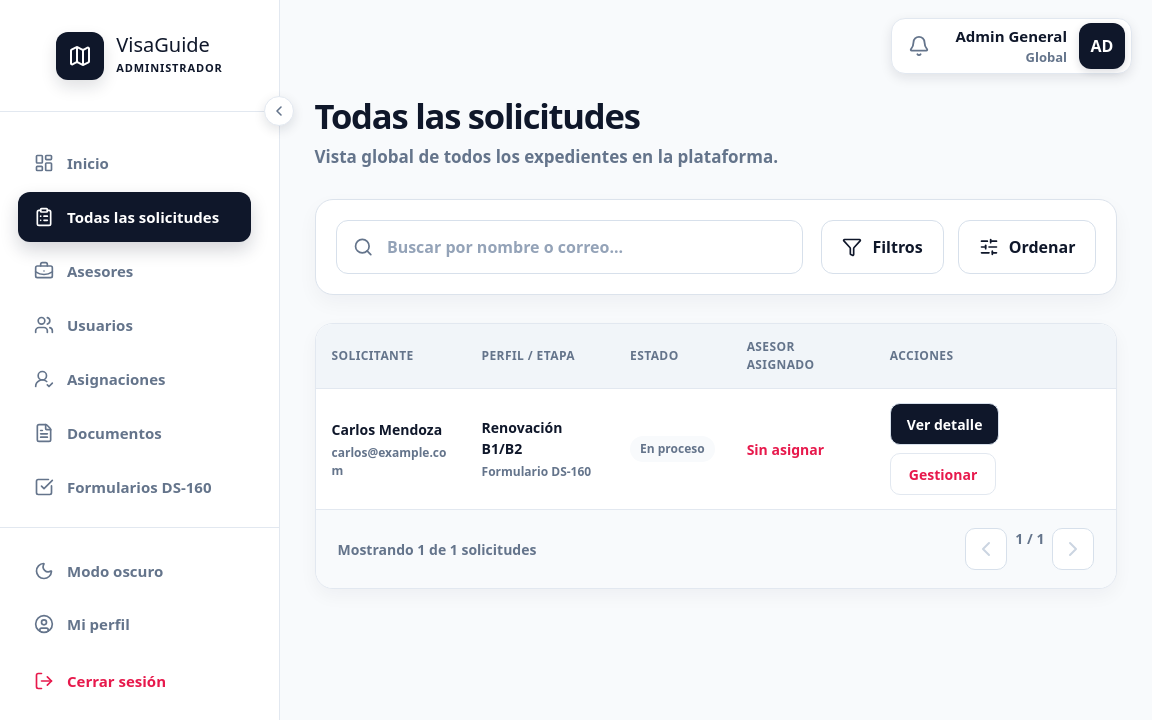
Test case: panel de administracion › permite asignar un asesor y actualizar un trámite
expect the text "Carlos Mendoza" is shown: met, box [332, 419, 450, 440]
Click the button "Gestionar" at (943, 474), box [890, 453, 996, 495]
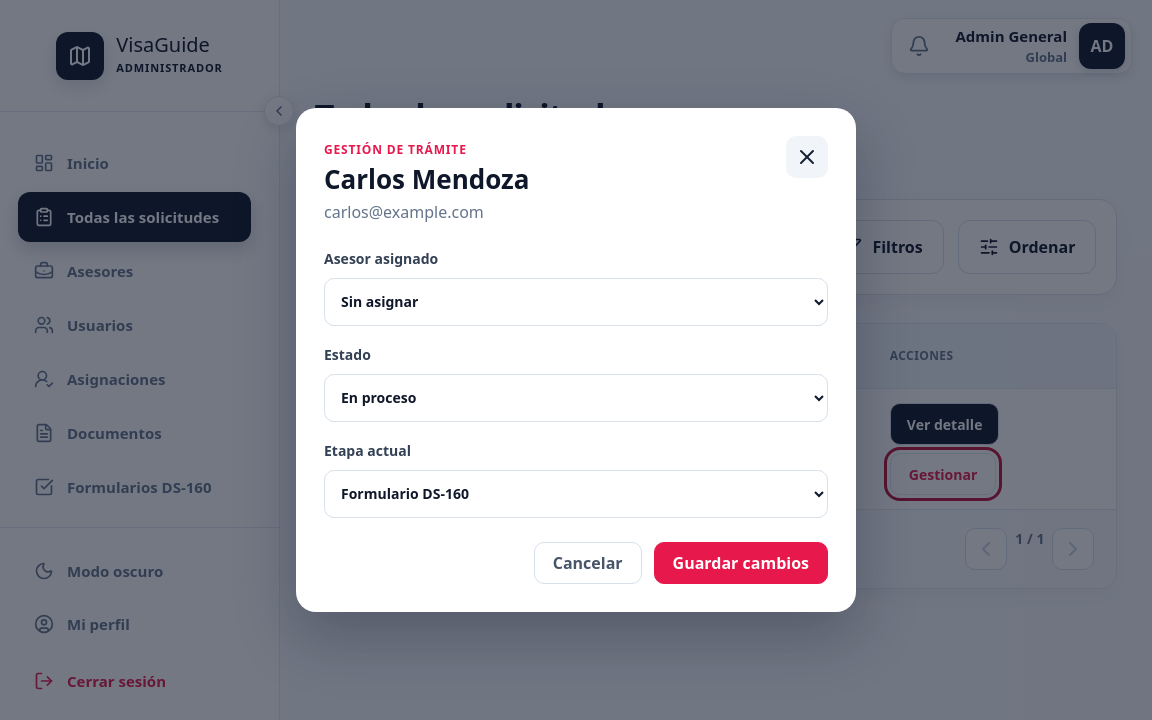
Select "Laura Vásquez" in the dropdown labelled "Asesor asignado" at (576, 302), box [324, 278, 828, 326]
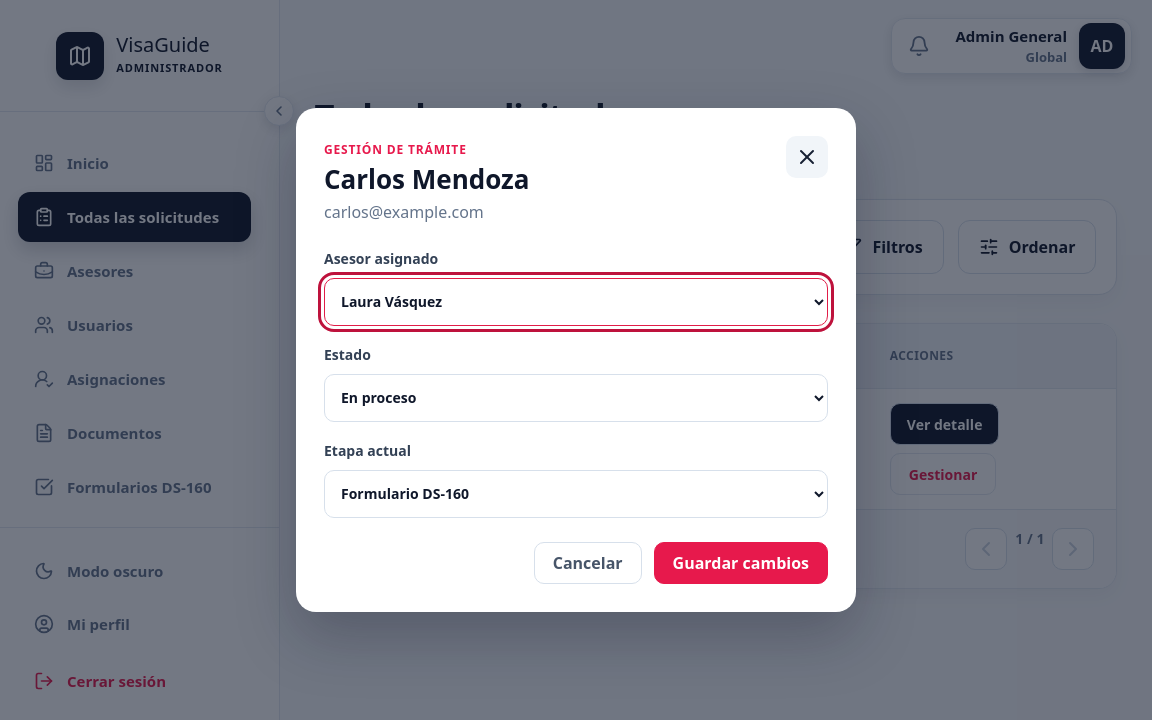
Select "Pendiente" in the dropdown labelled "Estado" at (576, 398), box [324, 374, 828, 422]
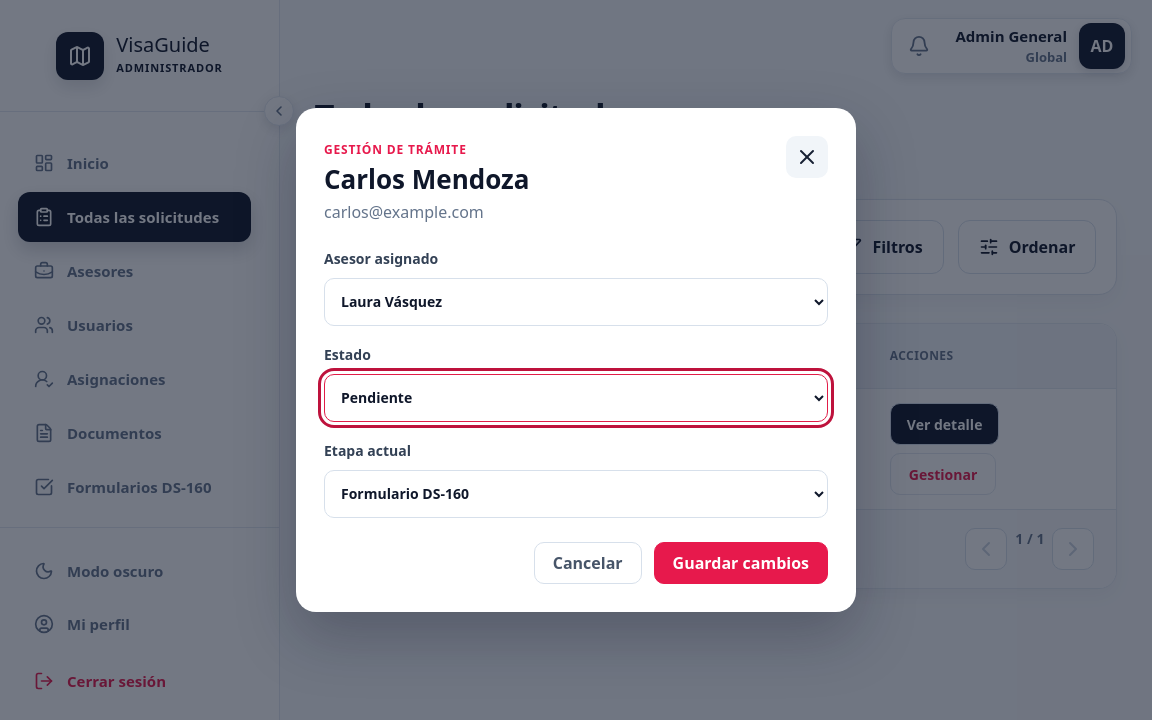
Click the button "Guardar cambios" at (741, 563), box [654, 542, 828, 584]
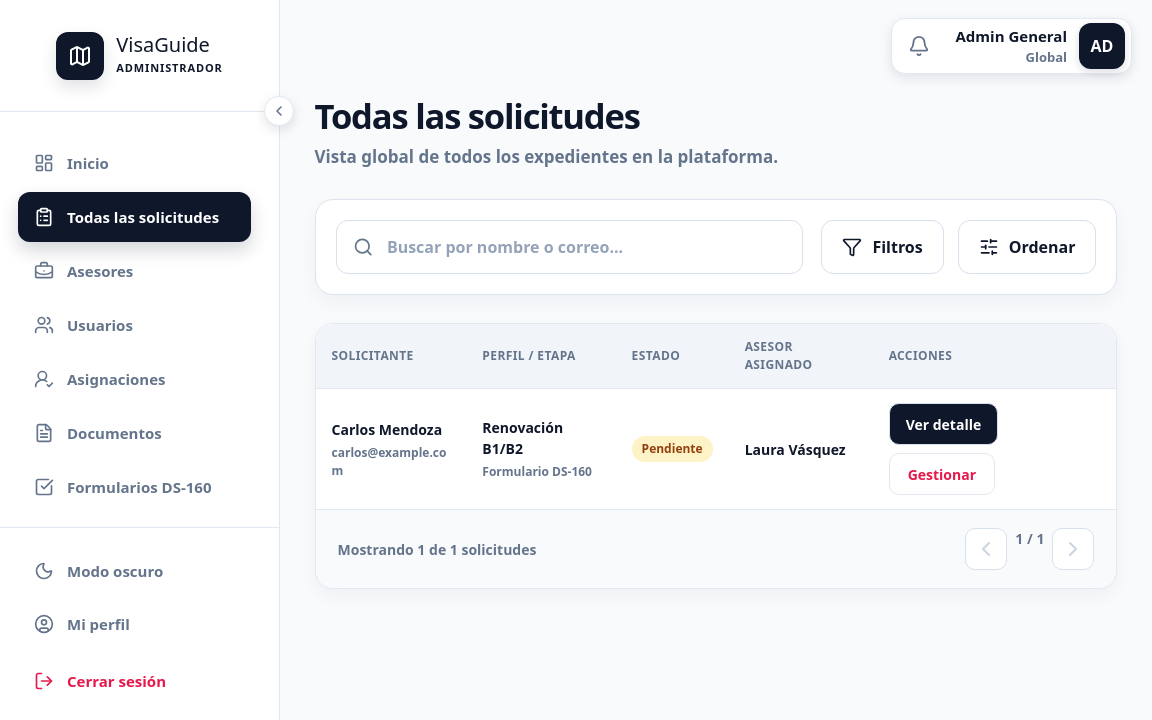
expect the dialog is gone: met
expect the text "Laura Vásquez" is shown: met, box [729, 389, 873, 509]
expect the text "Pendiente" is shown: met, box [632, 436, 713, 462]
